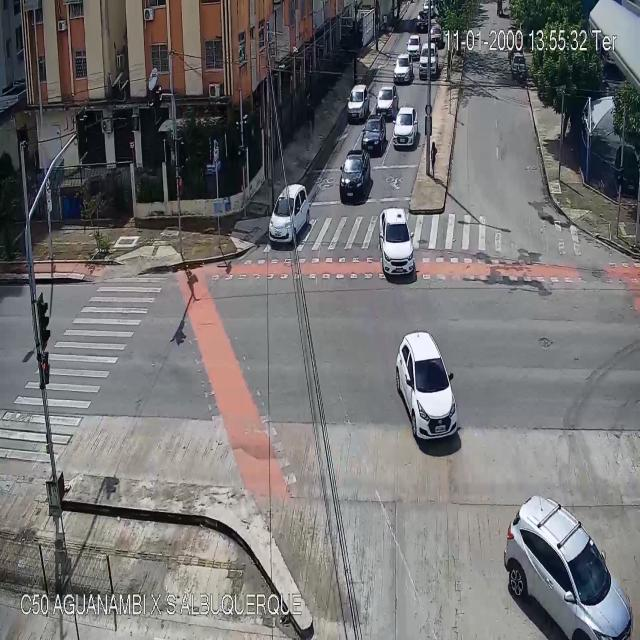Car: (504, 498, 634, 640), (396, 332, 462, 444), (270, 181, 310, 244), (378, 206, 414, 273), (339, 150, 372, 204), (393, 108, 418, 147), (361, 116, 386, 154), (419, 42, 438, 78), (375, 86, 396, 118), (348, 85, 366, 118), (394, 56, 412, 84), (511, 53, 525, 79), (406, 35, 419, 58), (430, 27, 442, 46), (416, 11, 428, 30), (423, 1, 435, 20)
Motorcycle: (517, 60, 523, 86)
